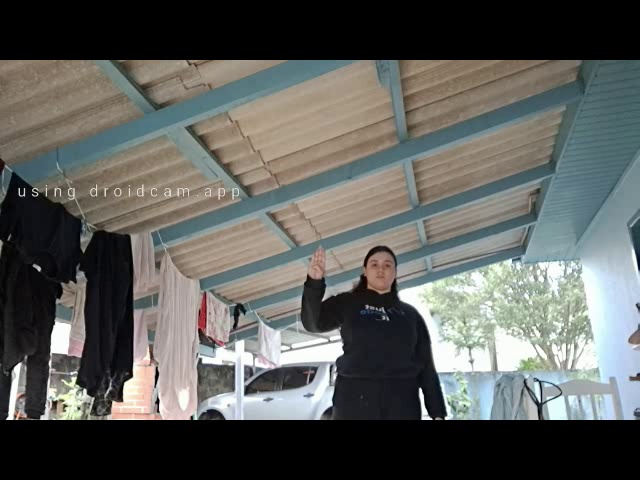MULHER: (345, 237, 414, 310)
